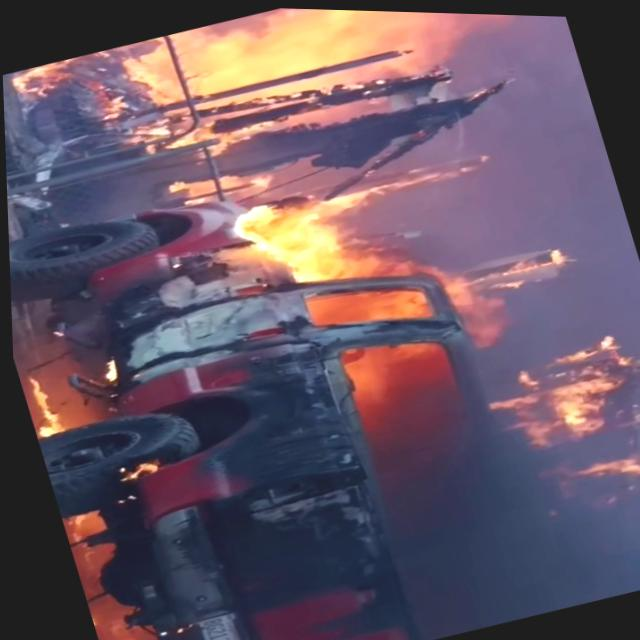fire: (104, 2, 576, 156), (242, 142, 486, 384)
